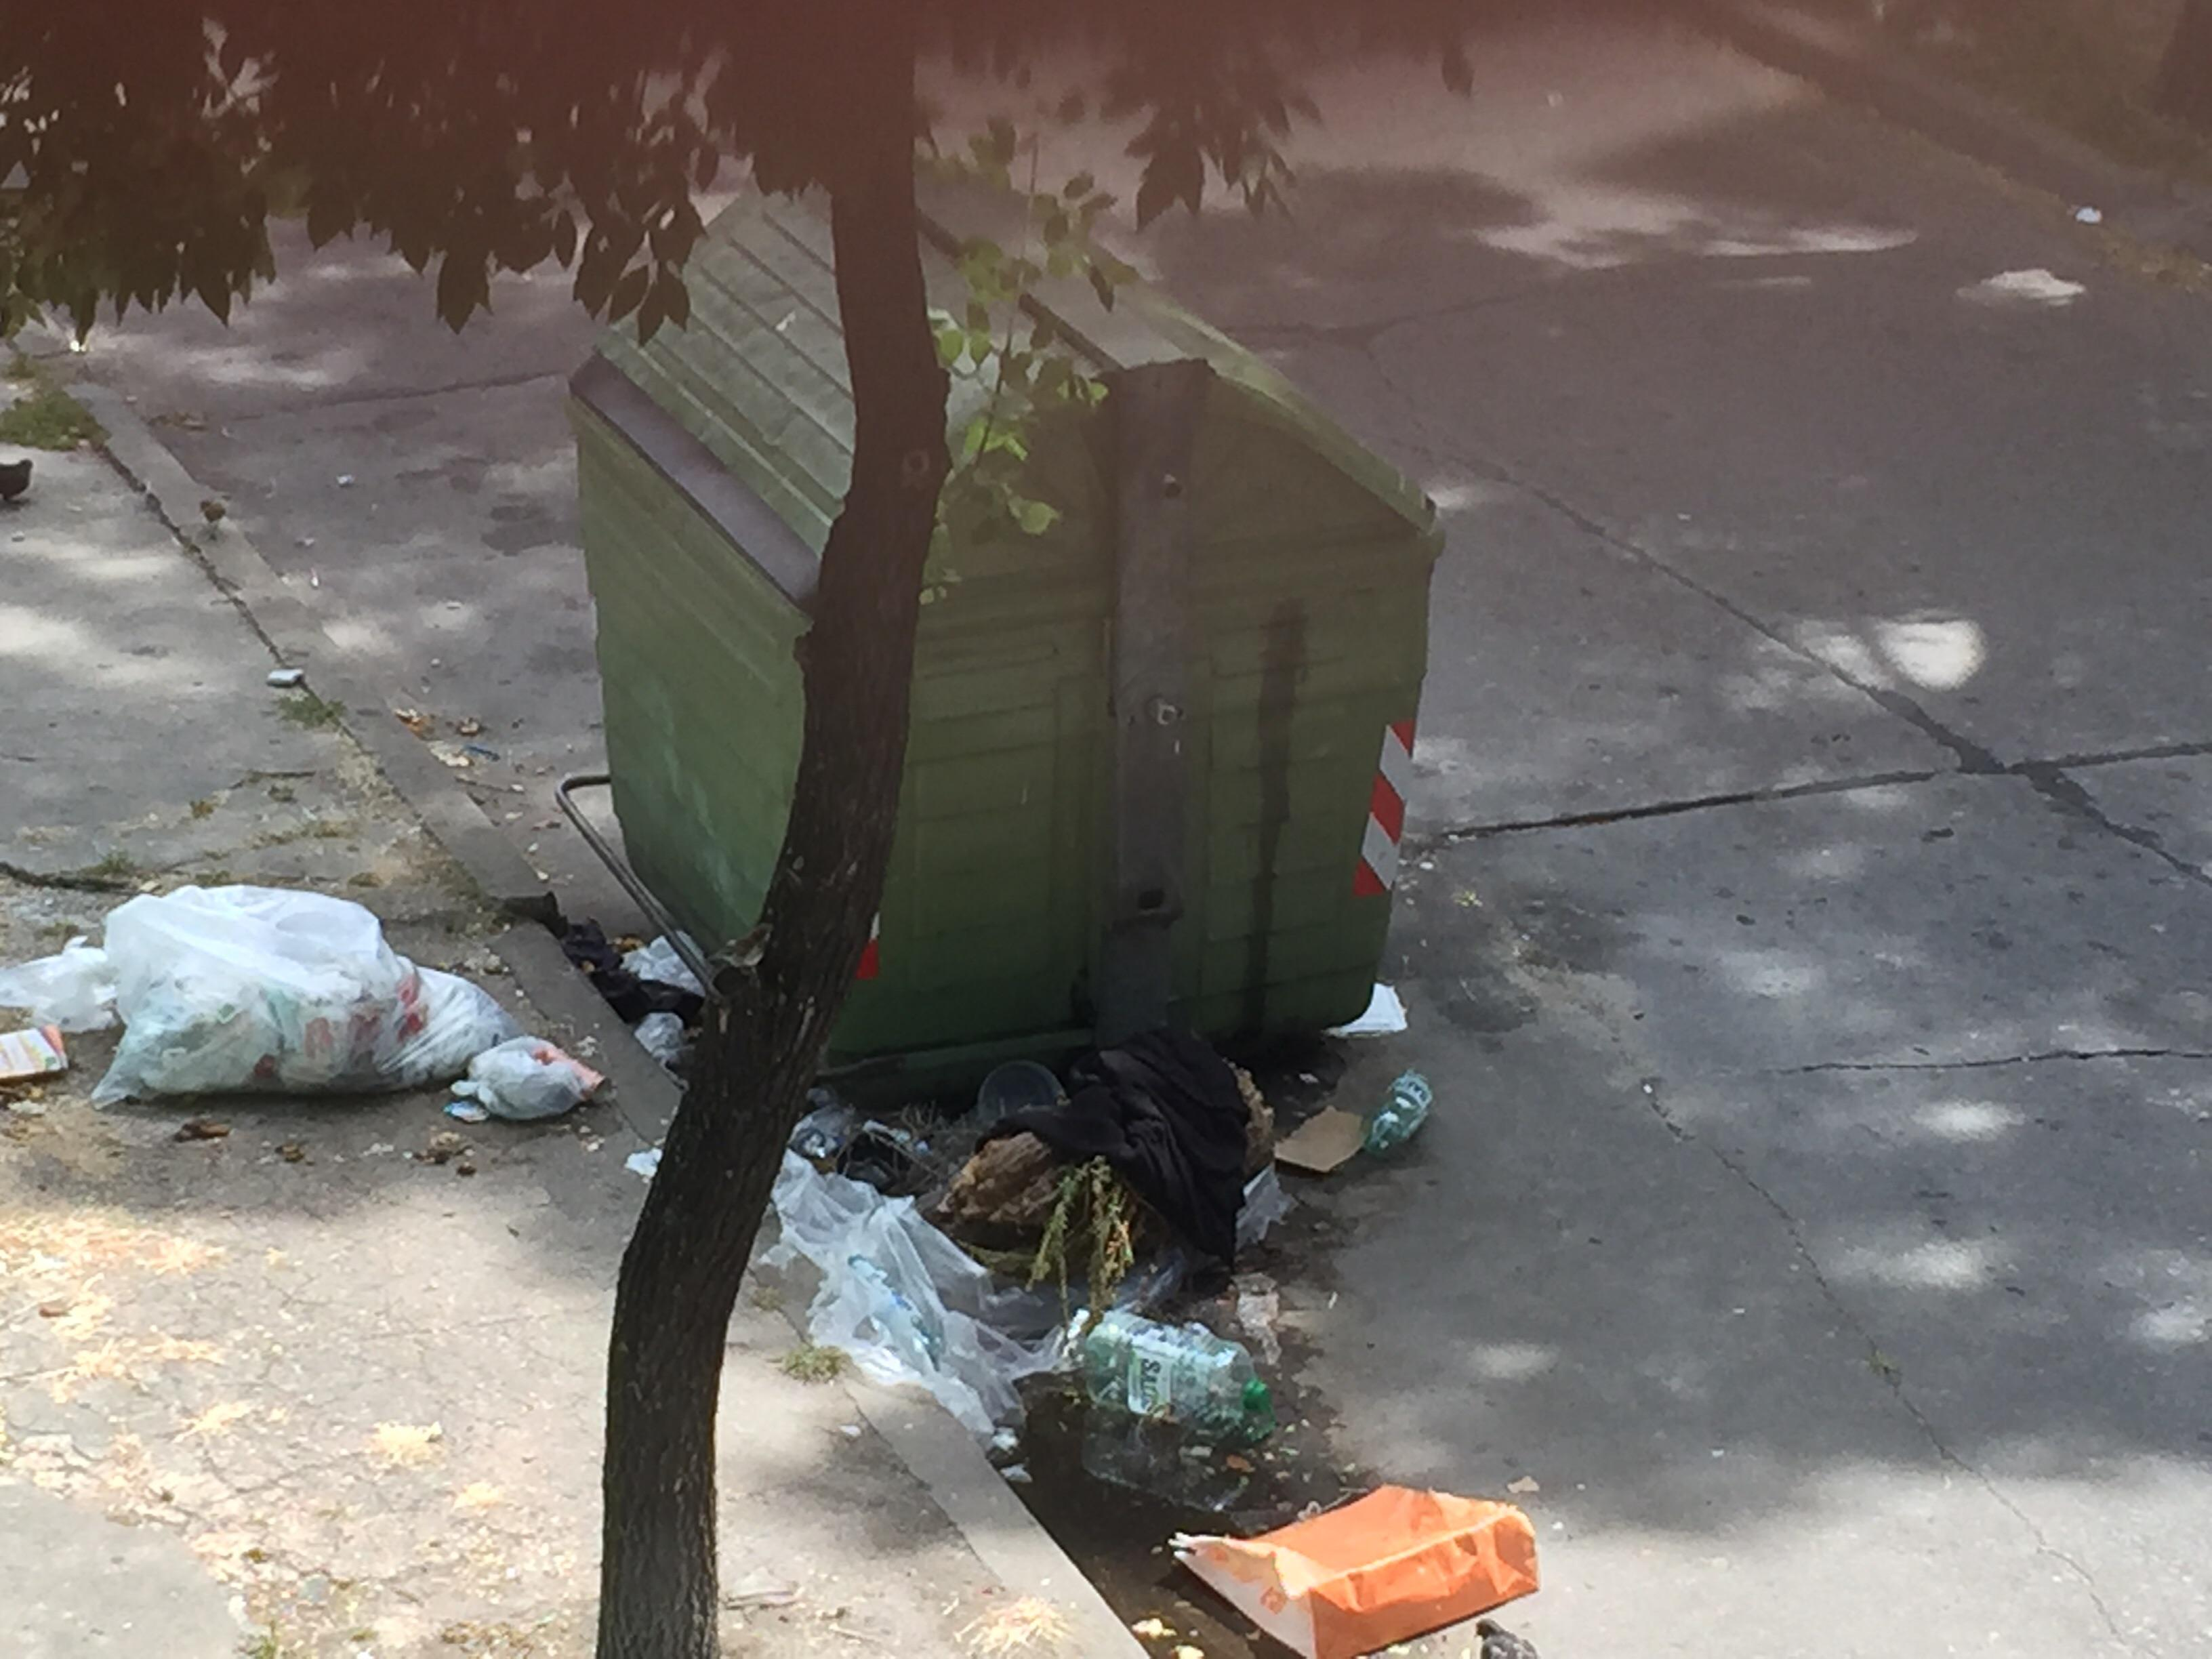Dechets: (786, 1101, 1571, 1650), (0, 878, 528, 1110), (1165, 1473, 1543, 1659), (1068, 1305, 1268, 1441), (617, 918, 705, 1075), (465, 1035, 606, 1117), (1362, 1063, 1437, 1152)
Trash: (559, 150, 1460, 1087)
